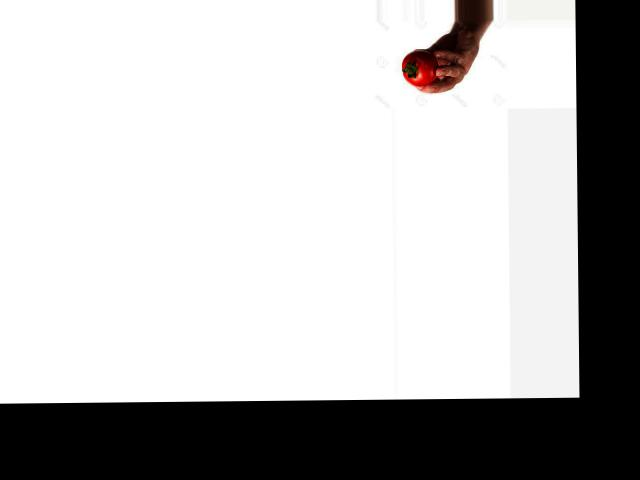tomato: (401, 49, 437, 86)
